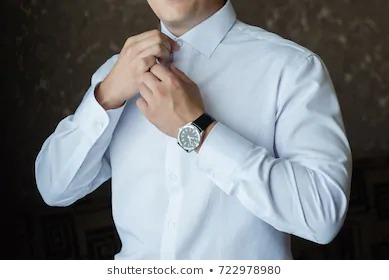F_shirt: (32, 1, 349, 256)
